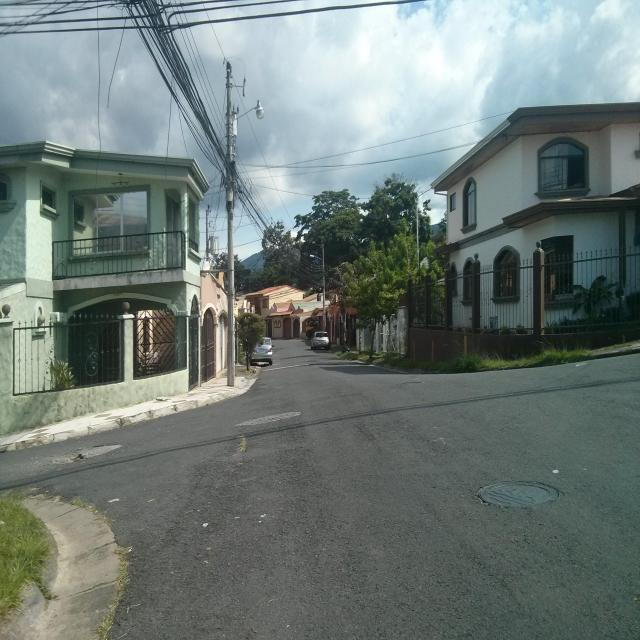Good: (473, 474, 560, 513)
